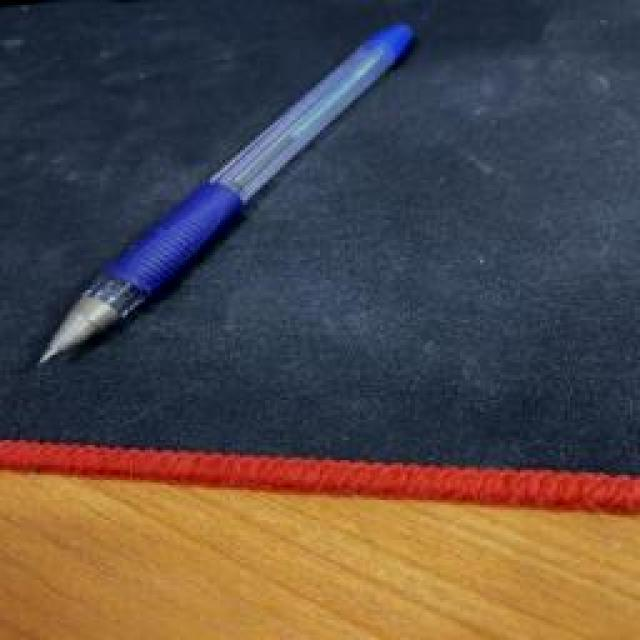pen: (30, 22, 415, 368)
